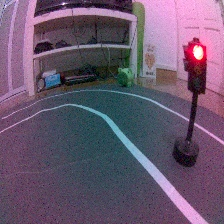red: (170, 35, 209, 172)
